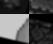eye: (0, 0, 29, 14)
